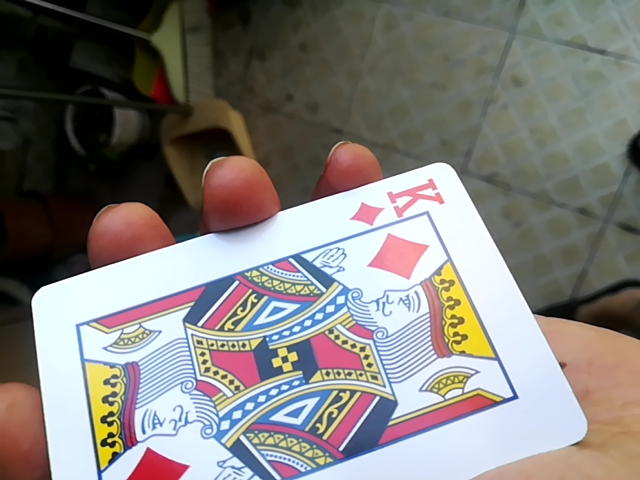fk k: (36, 151, 596, 477)
